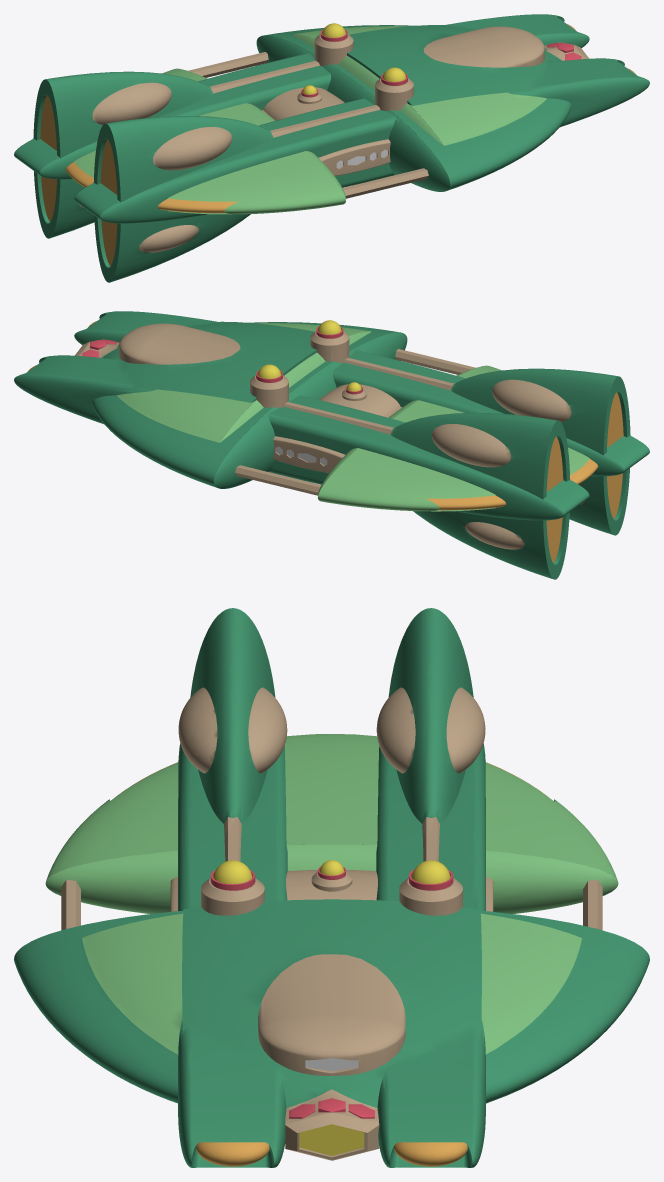
File: kre-swift.glb
The picture shows the model from 3 angles, top to bottom: view 1: azimuth 30°, elevation 25°; view 2: azimuth 150°, elevation 25°; view 3: azimuth 270°, elevation 25°; orthographic projection. The views are drawn at different scales.
Visible parts, largest first — view 1: Swift current hull - authored COLOR_0 regions; view 2: Swift current hull - authored COLOR_0 regions; view 3: Swift current hull - authored COLOR_0 regions.
Part boxes in pixels (left/top/right/bottom): Swift current hull - authored COLOR_0 regions: left=14, top=14, right=649, bottom=282; Swift current hull - authored COLOR_0 regions: left=14, top=311, right=649, bottom=579; Swift current hull - authored COLOR_0 regions: left=14, top=608, right=649, bottom=1167.
Bounding box in the file's own units: 5.43 × 1.51 × 3.31.
